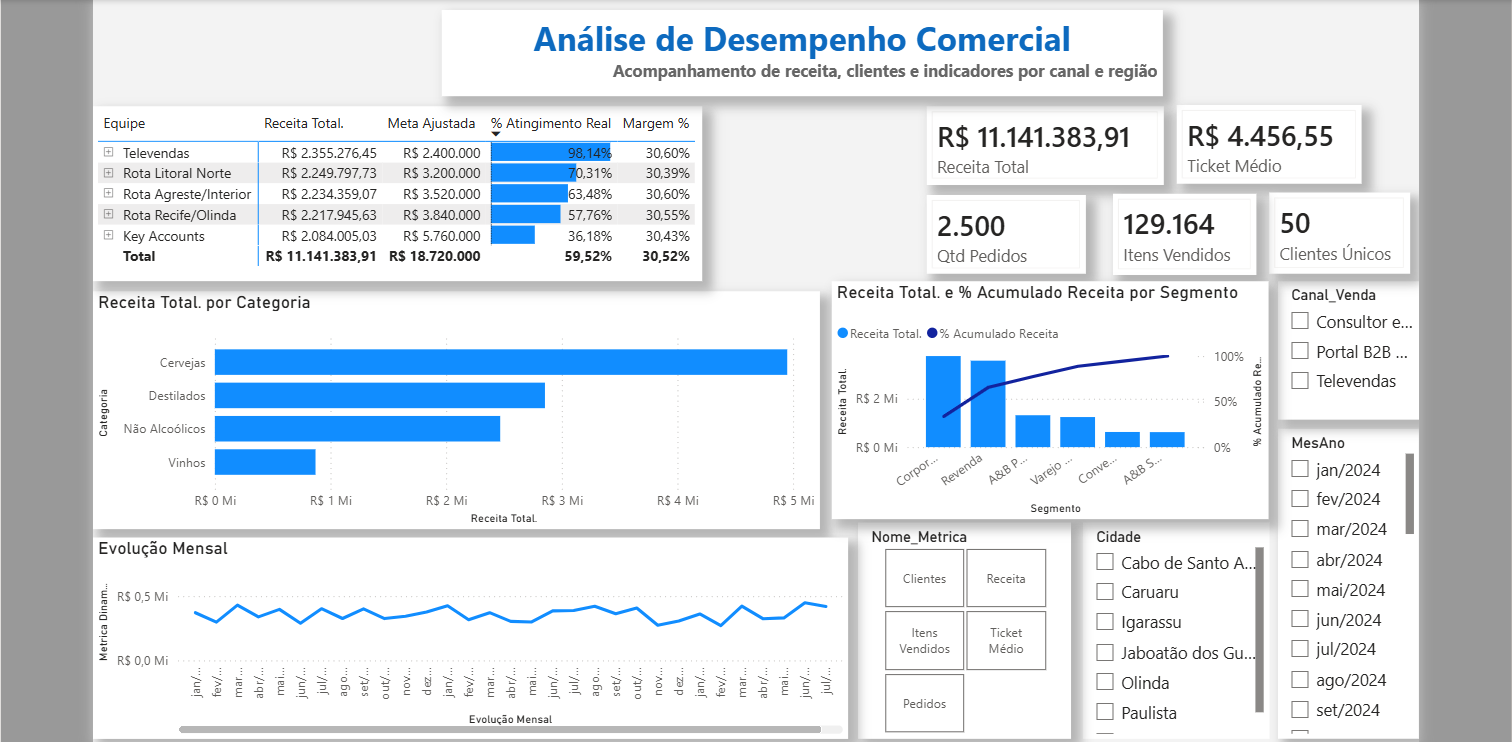

The dashboard page shown, as its layout file describes it:
{"tool":"powerbi","page":{"name":"Página 1","canvas":[1280,720],"ordinal":0},"visuals":[{"type":"slicer","fields":{"Values":["dCalendario.MesAno"]},"box":[1143.7,413.8,136.3,299.2],"z":0},{"type":"slicer","fields":{"Values":["fVendas.Canal_Venda"]},"box":[1143.3,271.5,137,133.3],"z":1000},{"type":"slicer","fields":{"Values":["dClientes.Cidade"]},"box":[955.5,504.3,179.8,208.7],"z":2000},{"type":"slicer","title":"Evolução Mensal","fields":{"Values":["dParametroMetrica.Nome_Metrica"]},"box":[738.3,504.3,205.4,209.1],"z":3000},{"type":"cardVisual","fields":{"Data":["_Medida.Receita Total Formatado"]},"box":[804.7,102.5,228.7,75.8],"z":4000},{"type":"cardVisual","fields":{"Data":["_Medida.Ticket Médio Formatado"]},"box":[1046,101.3,178.6,76],"z":5000},{"type":"cardVisual","fields":{"Data":["_Medida.Qtd Pedidos"]},"box":[804.7,188.2,153.2,76],"z":6000},{"type":"cardVisual","fields":{"Data":["_Medida.Clientes Únicos"]},"box":[1135.3,185.8,135.7,78.3],"z":7000},{"type":"cardVisual","fields":{"Data":["_Medida.Itens Vendidos"]},"box":[984.5,187,138.2,78.3],"z":8000},{"type":"barChart","fields":{"Category":["dProdutos.Categoria"],"Y":["_Medida.Receita Total"]},"box":[0,281.3,701.9,229.9],"z":9000},{"type":"lineChart","title":"Evolução Mensal","fields":{"Category":["dCalendario.MesAno"],"Y":["_Medida.Metrica Dinamica"]},"box":[0,518.8,728.8,194.4],"z":10000},{"type":"lineStackedColumnComboChart","fields":{"Category":["dClientes.Segmento"],"Y2":["_Medida.% Acumulado Receita"],"Y":["_Medida.Receita Total Cal"]},"box":[712.9,271.5,421.9,229.9],"z":11000},{"type":"pivotTable","title":"Desempenho por Equipe","fields":{"Values":["_Medida.Receita Total","_Medida.Meta Ajustada","_Medida.% Atingimento Real","_Medida.Margem %"],"Rows":["dVendedores.Equipe","dVendedores.Nome_Vendedor"]},"box":[0,102.7,588.2,168.8],"z":12000},{"type":"textbox","box":[336.3,9.8,695.8,83.2],"z":12001}]}

Visuals, with their boxes in screenshot pixels (x1, y1, x2, y2):
slicer - dCalendario.MesAno: bbox=[1274, 423, 1412, 727]
slicer - fVendas.Canal_Venda: bbox=[1273, 279, 1412, 414]
slicer - dClientes.Cidade: bbox=[1083, 515, 1265, 727]
"Evolução Mensal" slicer: bbox=[863, 515, 1071, 727]
cardVisual - _Medida.Receita Total Formatado: bbox=[930, 108, 1162, 185]
cardVisual - _Medida.Ticket Médio Formatado: bbox=[1175, 107, 1356, 184]
cardVisual - _Medida.Qtd Pedidos: bbox=[930, 195, 1085, 272]
cardVisual - _Medida.Clientes Únicos: bbox=[1265, 192, 1403, 272]
cardVisual - _Medida.Itens Vendidos: bbox=[1112, 194, 1253, 273]
barChart - dProdutos.Categoria x _Medida.Receita Total: bbox=[114, 289, 826, 522]
"Evolução Mensal" lineChart: bbox=[114, 530, 853, 727]
lineStackedColumnComboChart - dClientes.Segmento x _Medida.% Acumulado Receita: bbox=[837, 279, 1265, 512]
"Desempenho por Equipe" pivotTable: bbox=[114, 108, 711, 279]
textbox: bbox=[455, 14, 1161, 98]
